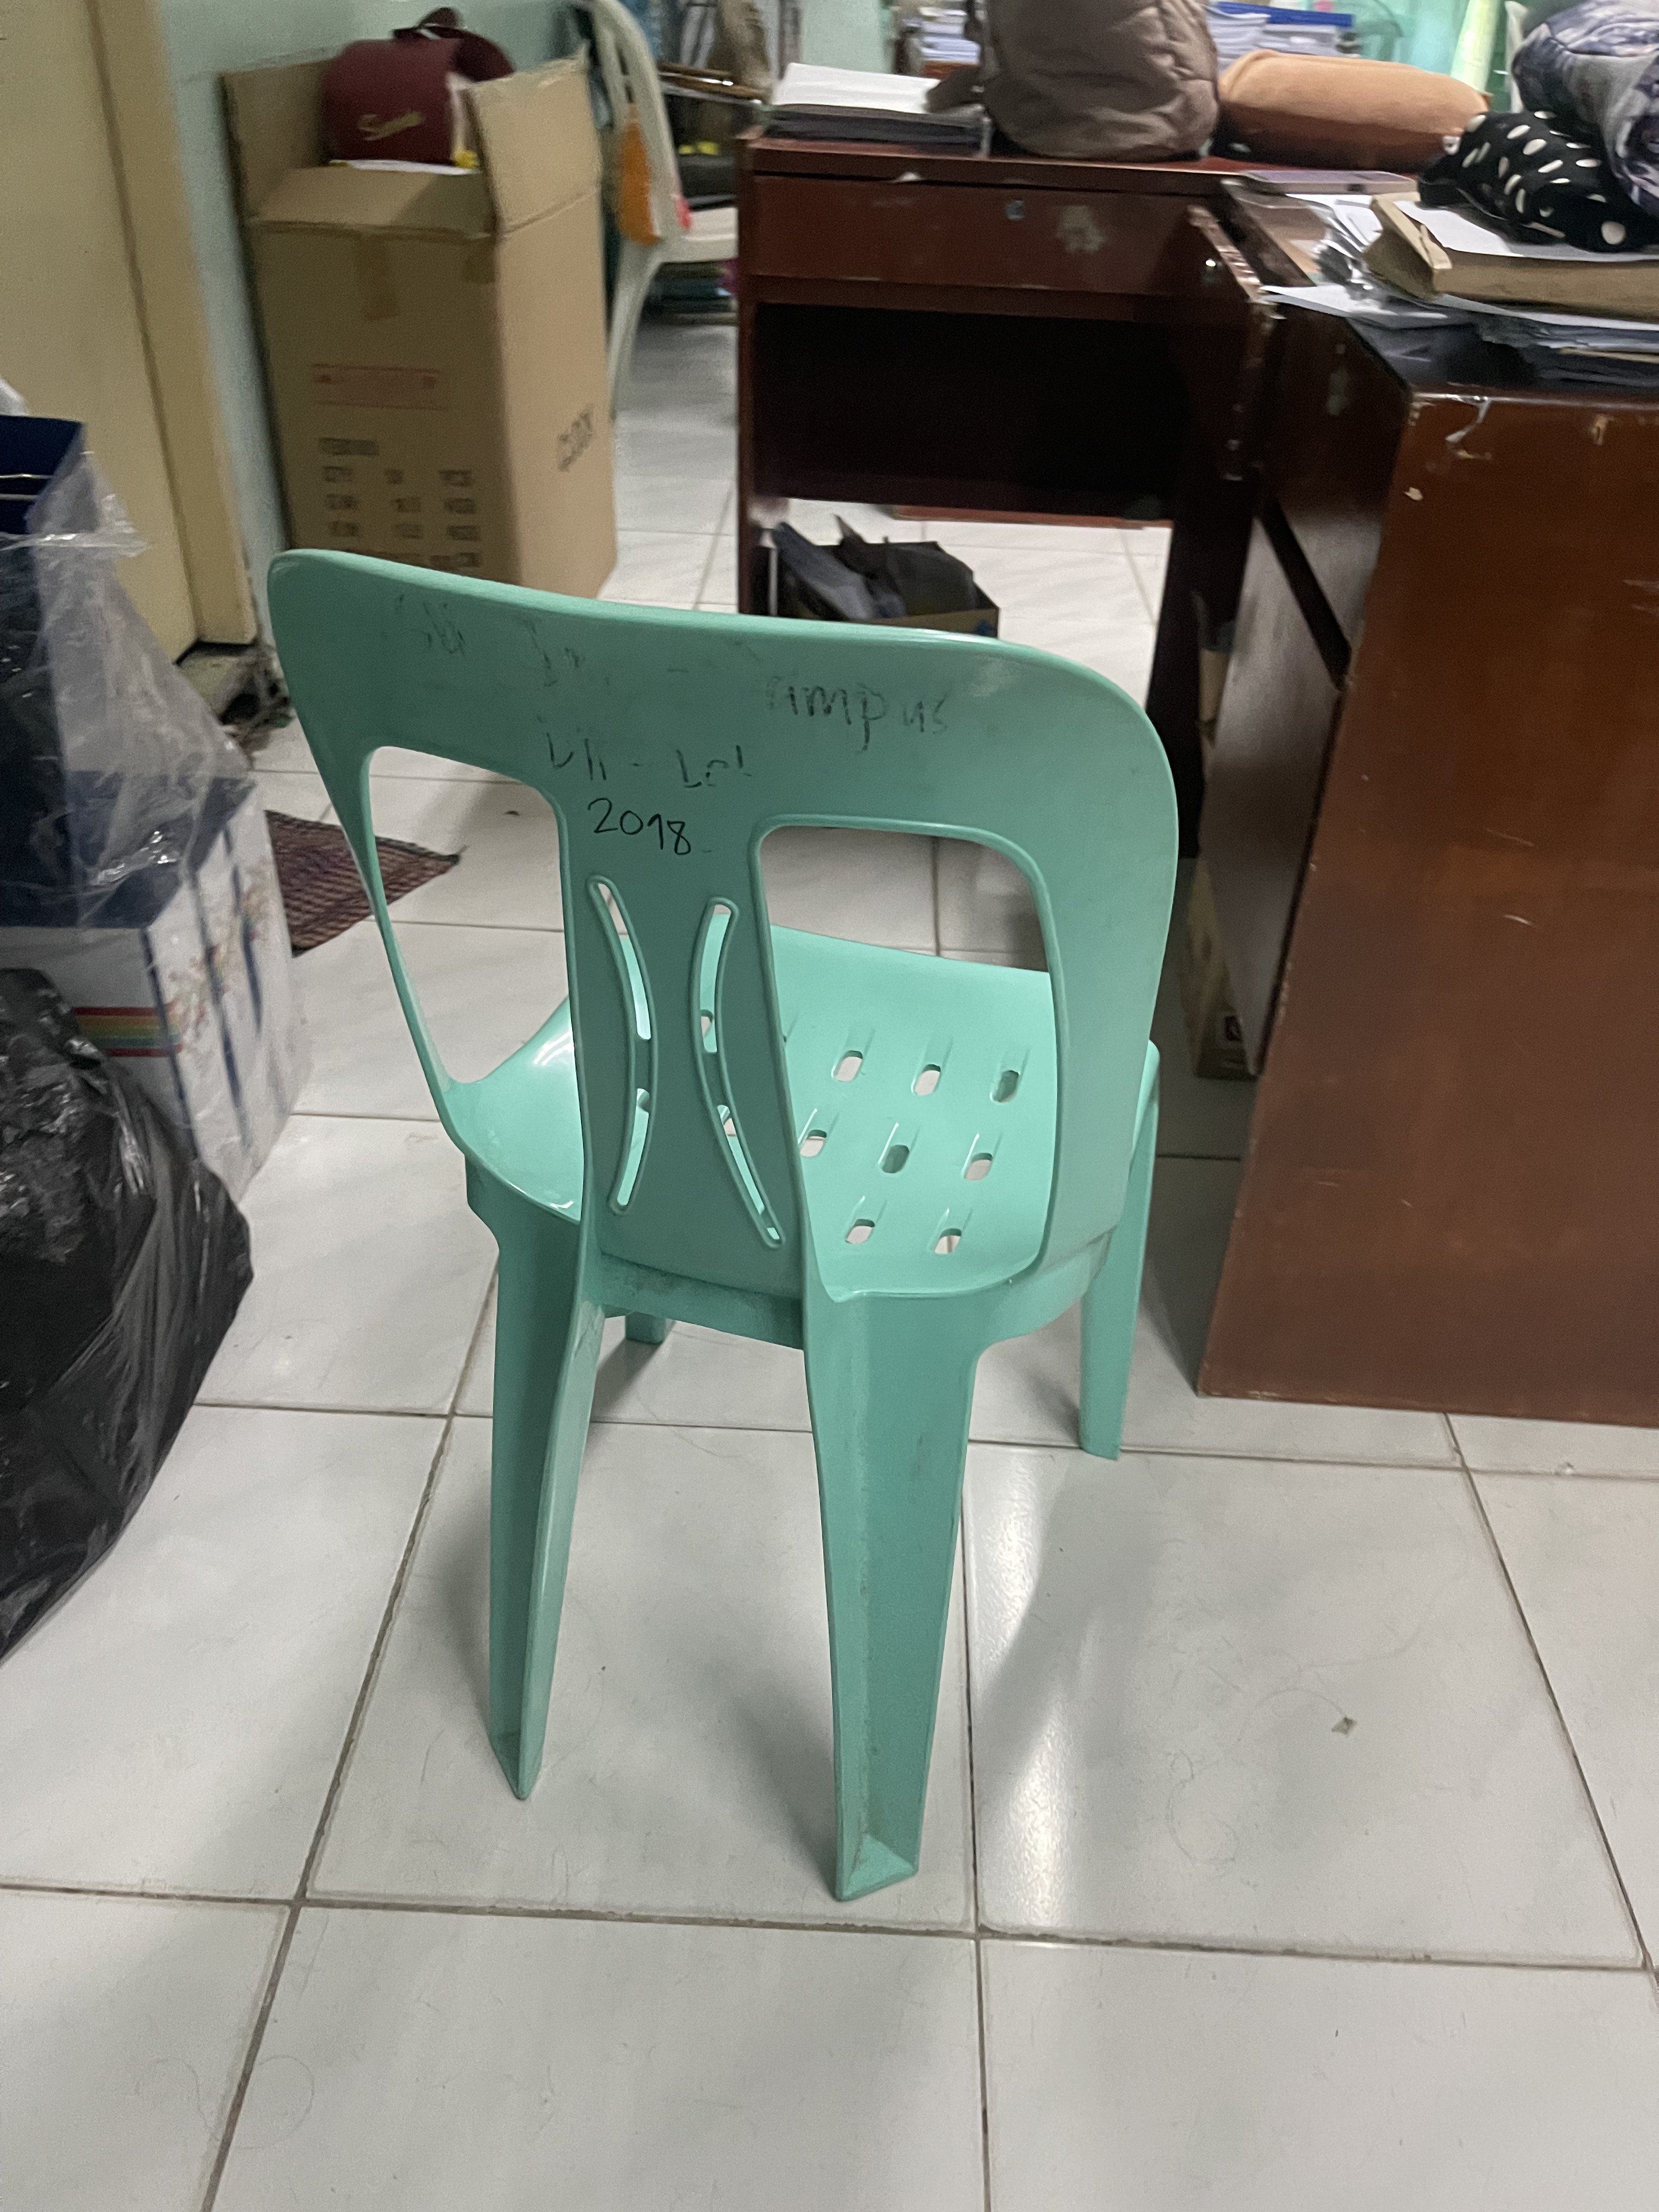chair2: (263, 542, 1171, 1928)
